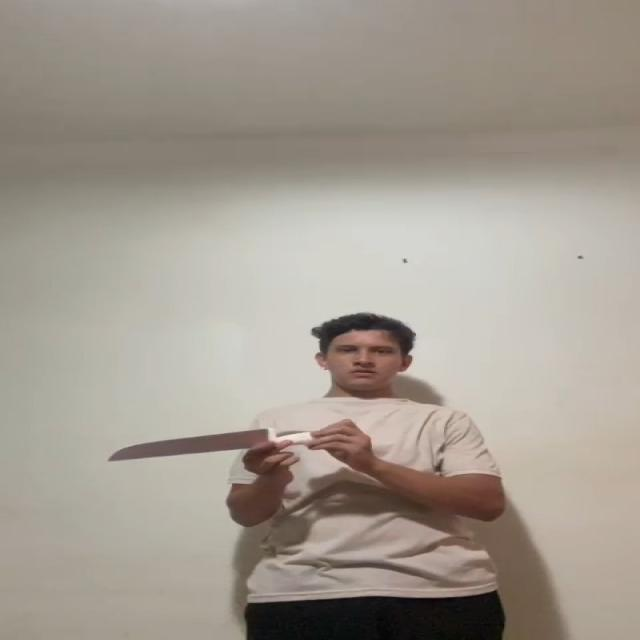knife: (104, 425, 264, 464)
